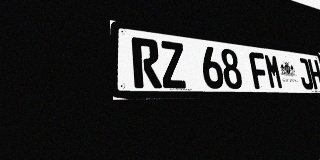6: (200, 45, 225, 89)
8: (219, 48, 243, 89)
F: (248, 52, 270, 89)
H: (307, 59, 320, 90)
J: (296, 58, 314, 89)
M: (263, 53, 284, 89)
R: (131, 37, 162, 88)
Z: (159, 40, 188, 88)
